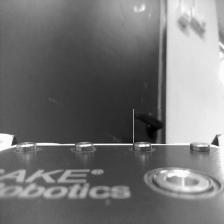Door Handle: (133, 109, 164, 143)
